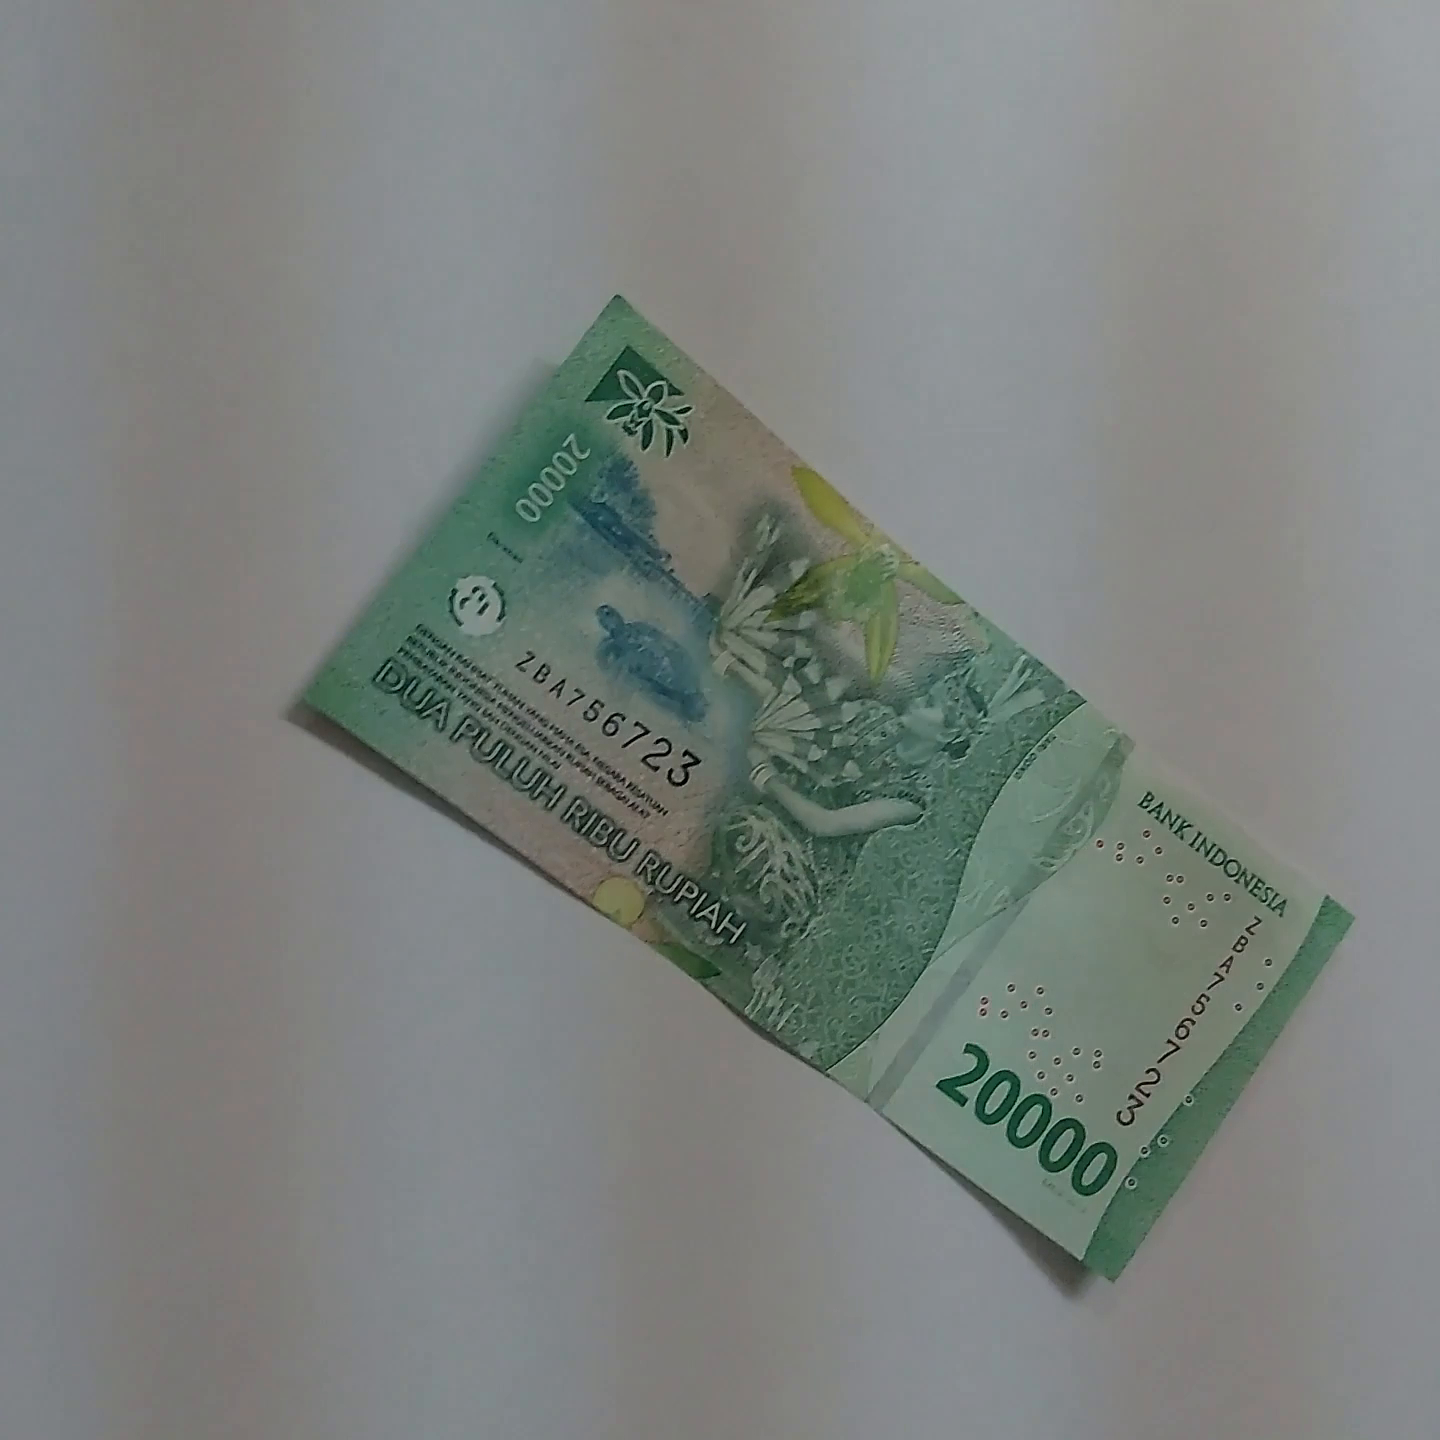20k: (584, 269, 1440, 766)
